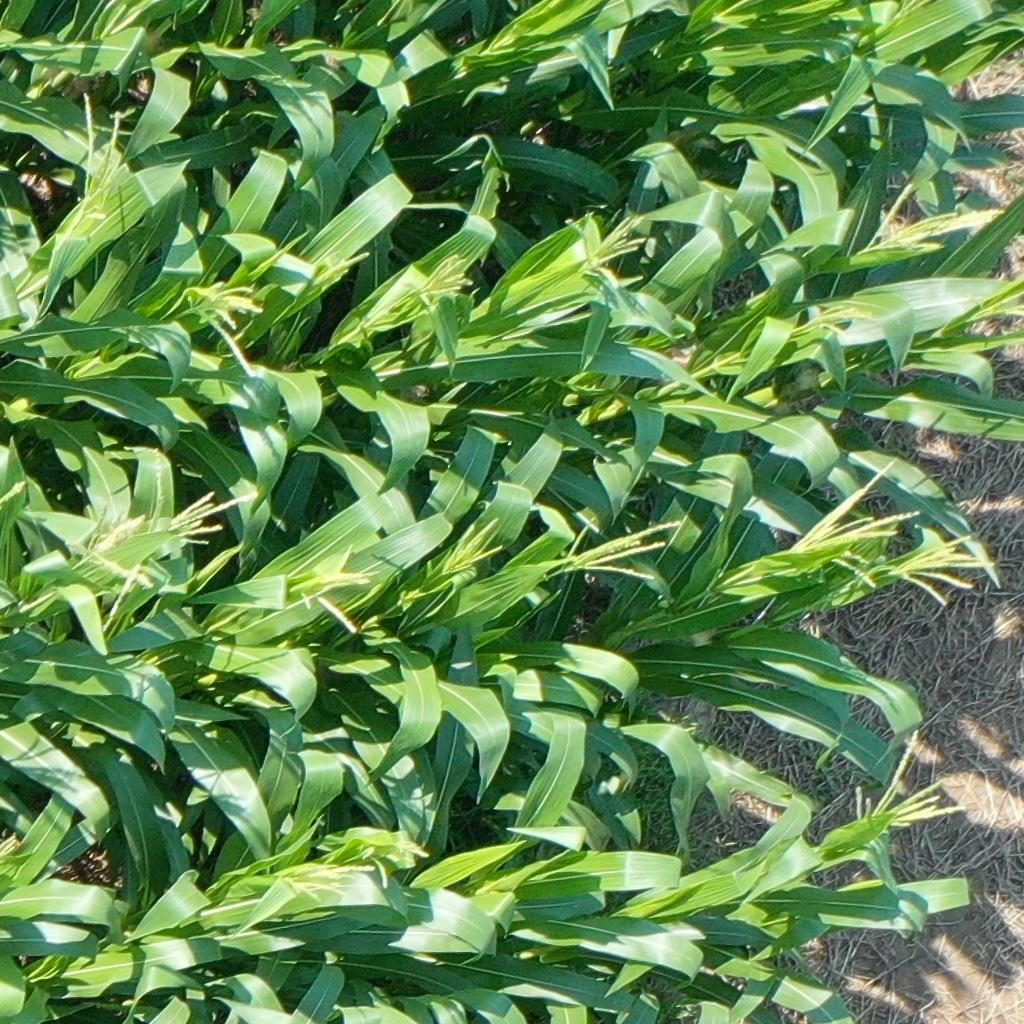Tassel: (781, 457, 921, 596), (847, 723, 970, 836), (142, 432, 255, 551), (859, 173, 1009, 253), (62, 87, 132, 227), (887, 526, 1002, 609), (71, 492, 160, 591), (556, 517, 685, 583), (187, 278, 265, 381), (295, 567, 383, 638), (564, 205, 652, 274), (277, 857, 379, 907), (431, 513, 505, 579), (415, 252, 477, 314), (368, 828, 433, 887), (308, 248, 373, 294), (811, 298, 875, 336), (1001, 304, 1024, 318)
